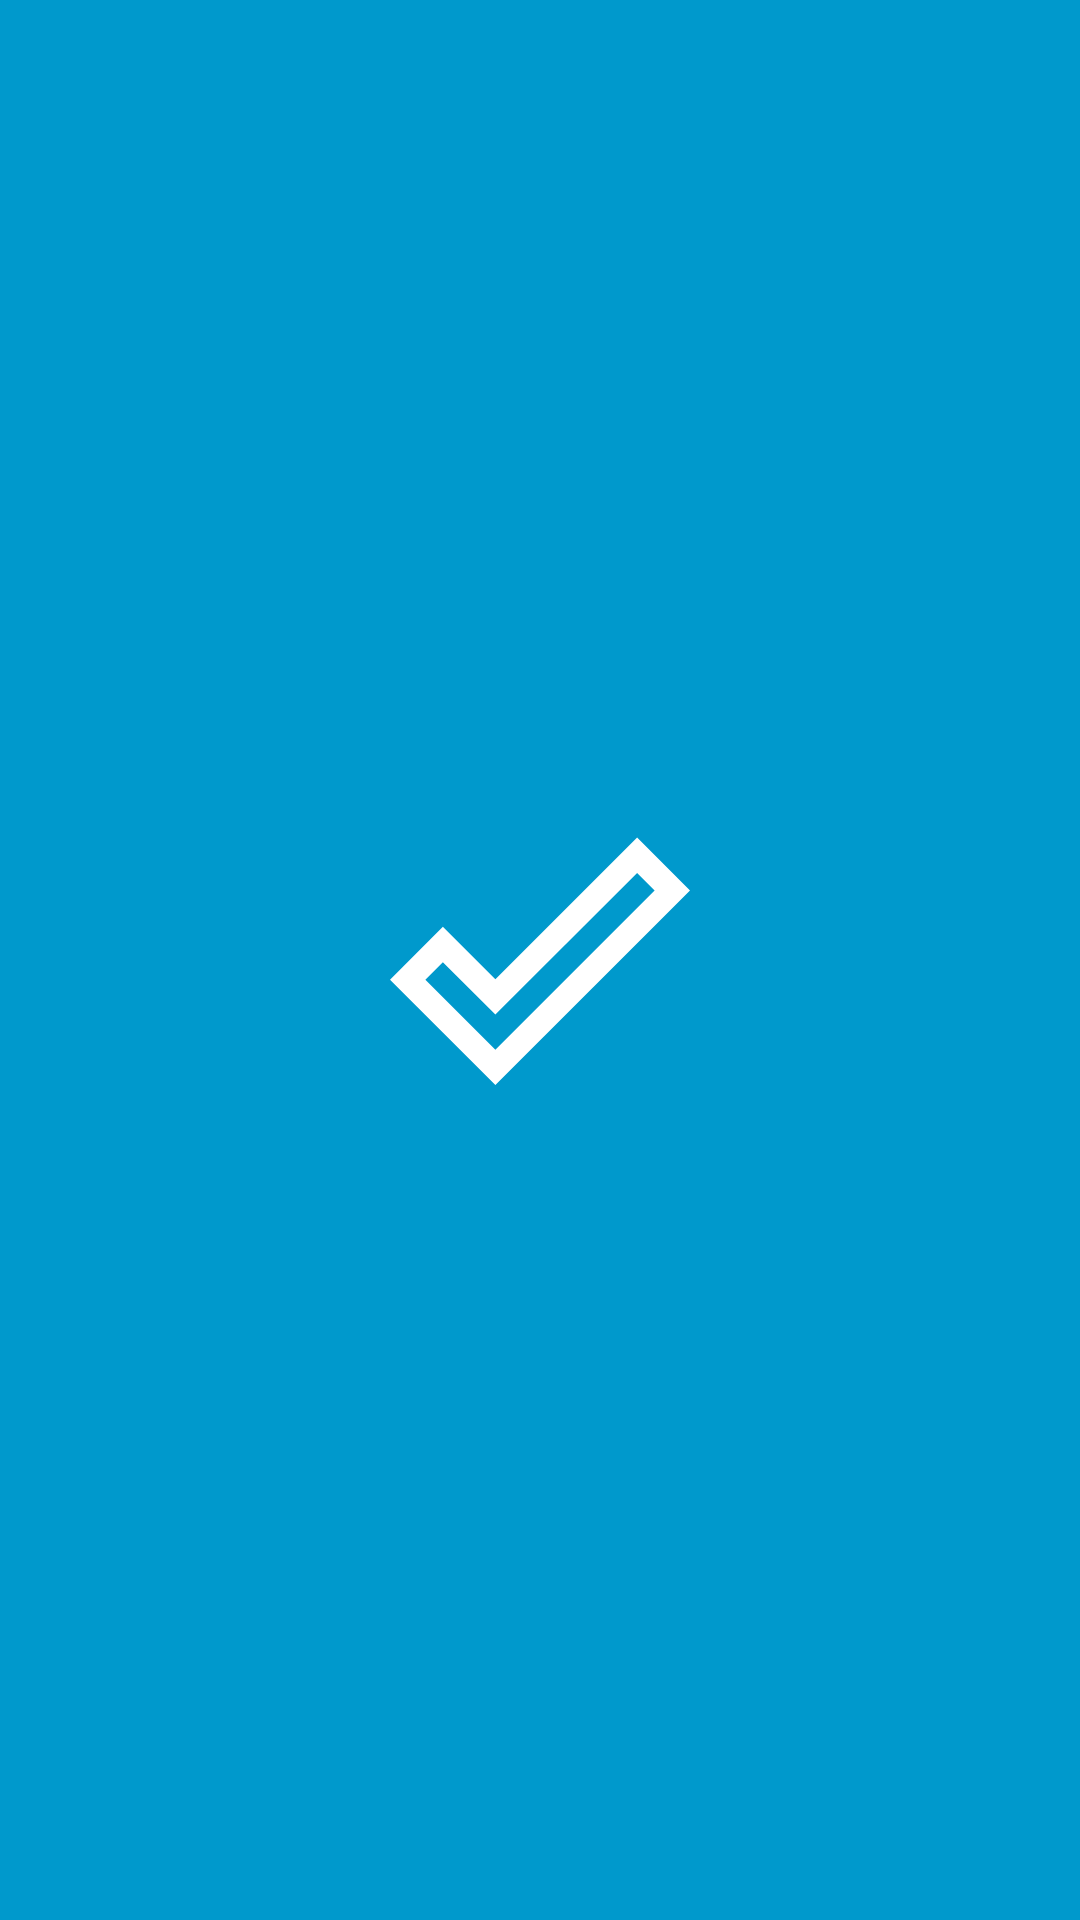

Locate icon controls on the screen. Image size 1080 × 1920, boxes as (x1, y1, x2, y2).
done: (390, 837, 690, 1085)
